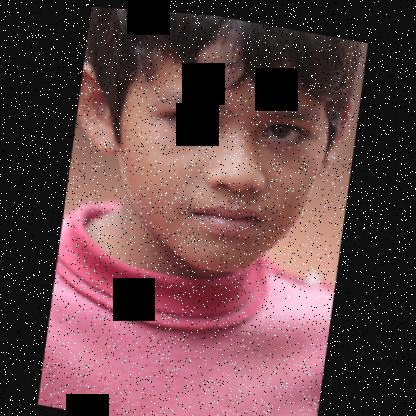Male: (59, 12, 358, 286)
